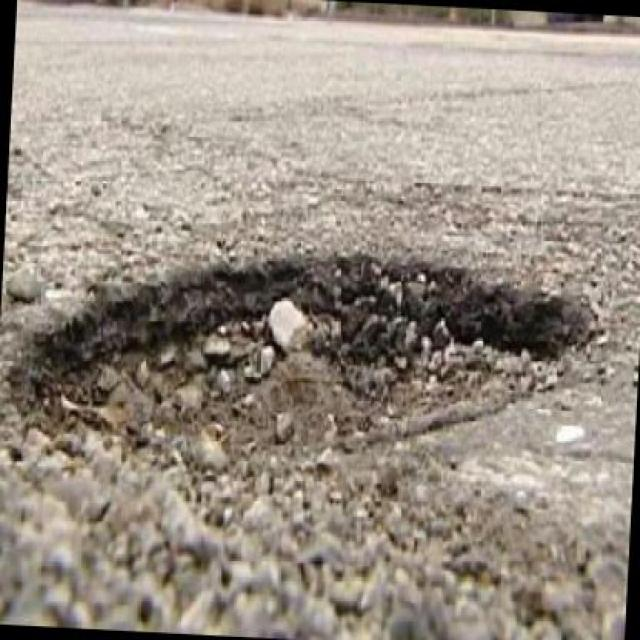pothole1: (0, 234, 600, 538)
